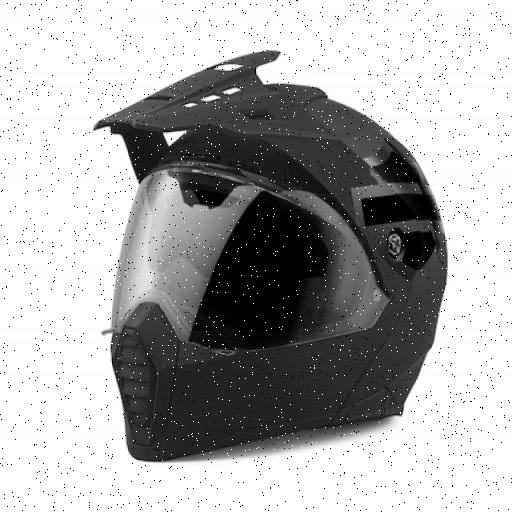Helmet: (90, 62, 431, 458)
